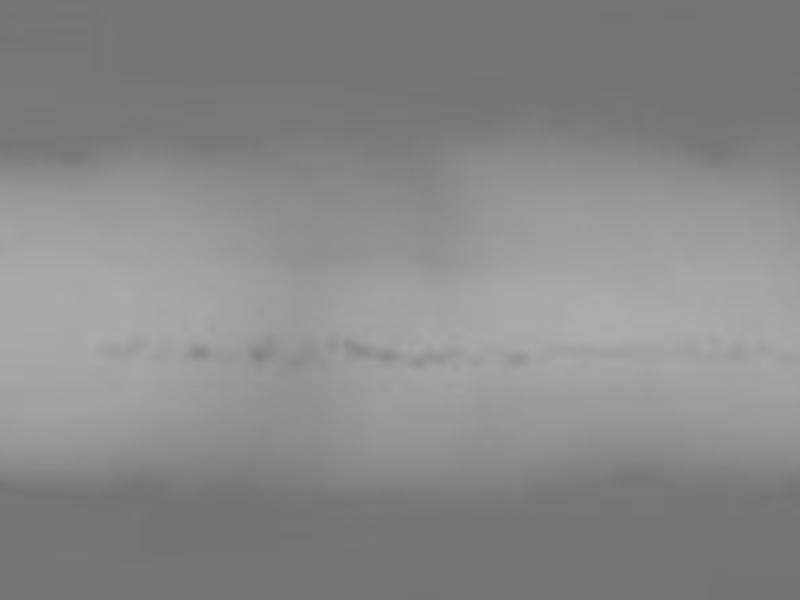defect: (119, 336, 147, 362), (433, 345, 465, 367), (721, 336, 748, 362), (341, 336, 371, 358), (183, 340, 212, 361), (247, 342, 277, 362), (92, 337, 117, 360), (375, 343, 401, 364), (505, 348, 533, 367), (285, 348, 309, 368), (409, 349, 428, 369), (323, 334, 341, 350)
